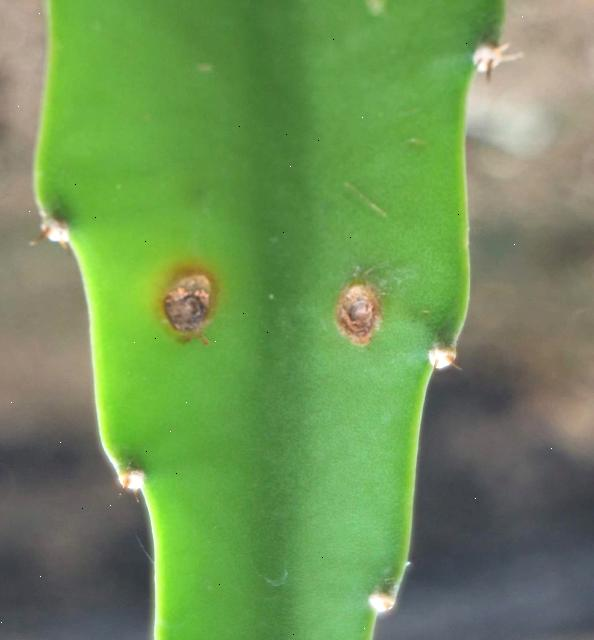stemcanker: (152, 260, 225, 347), (327, 275, 388, 351)
